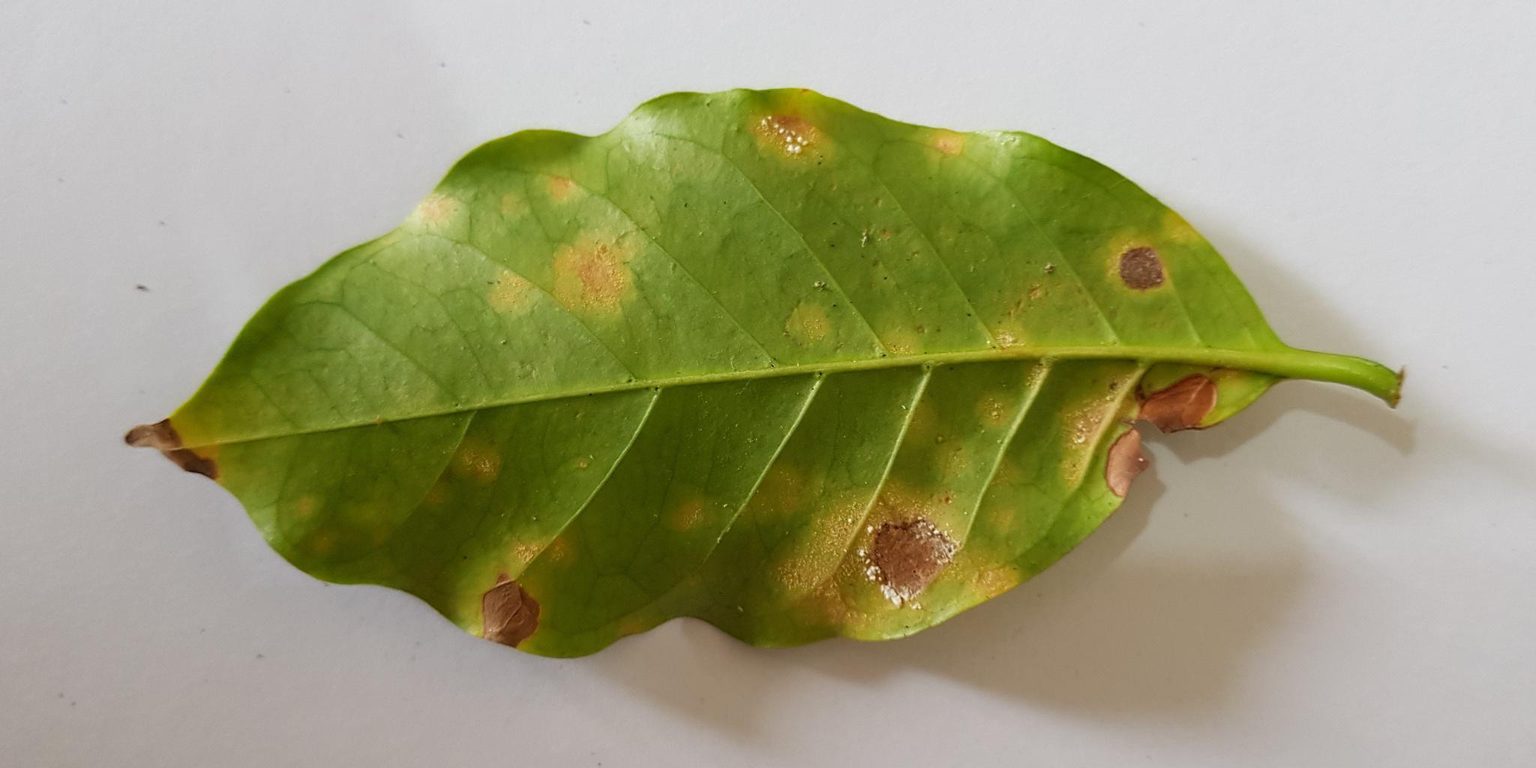Rust: (735, 450, 1026, 655), (422, 158, 648, 336), (734, 79, 834, 180)
